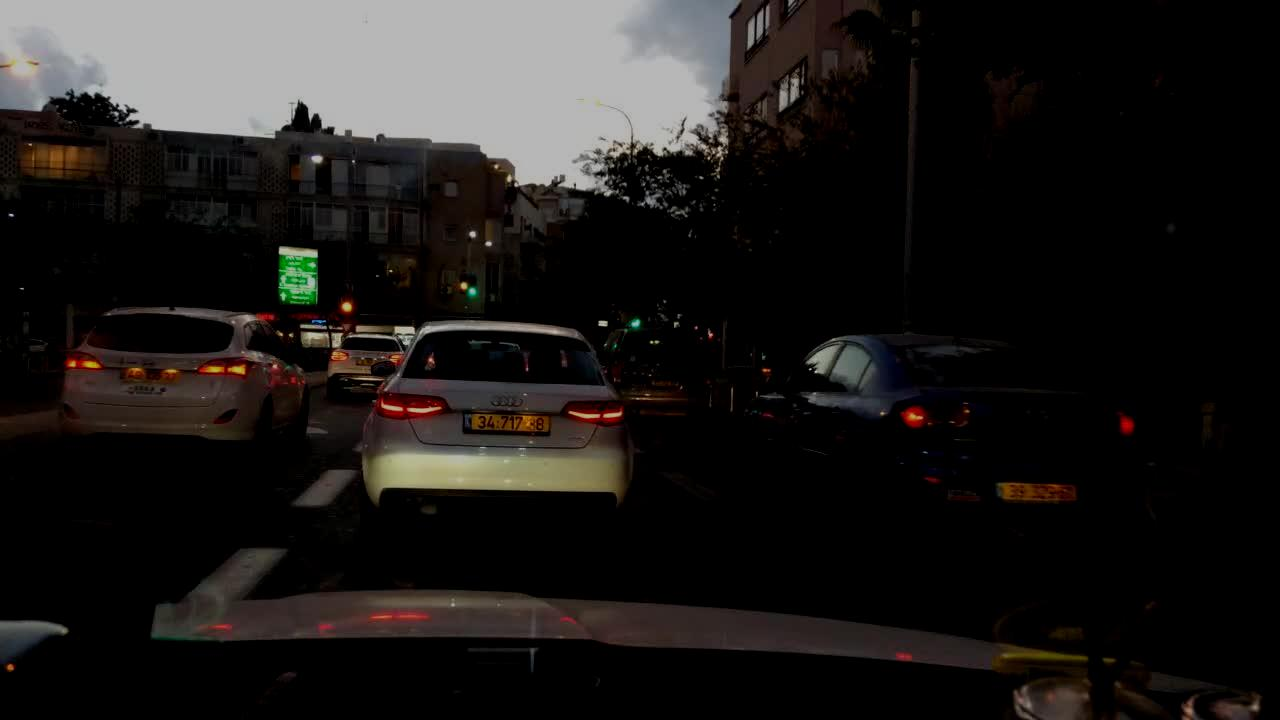Audi: (487, 395, 532, 408)
Mazda: (1015, 393, 1063, 429)
